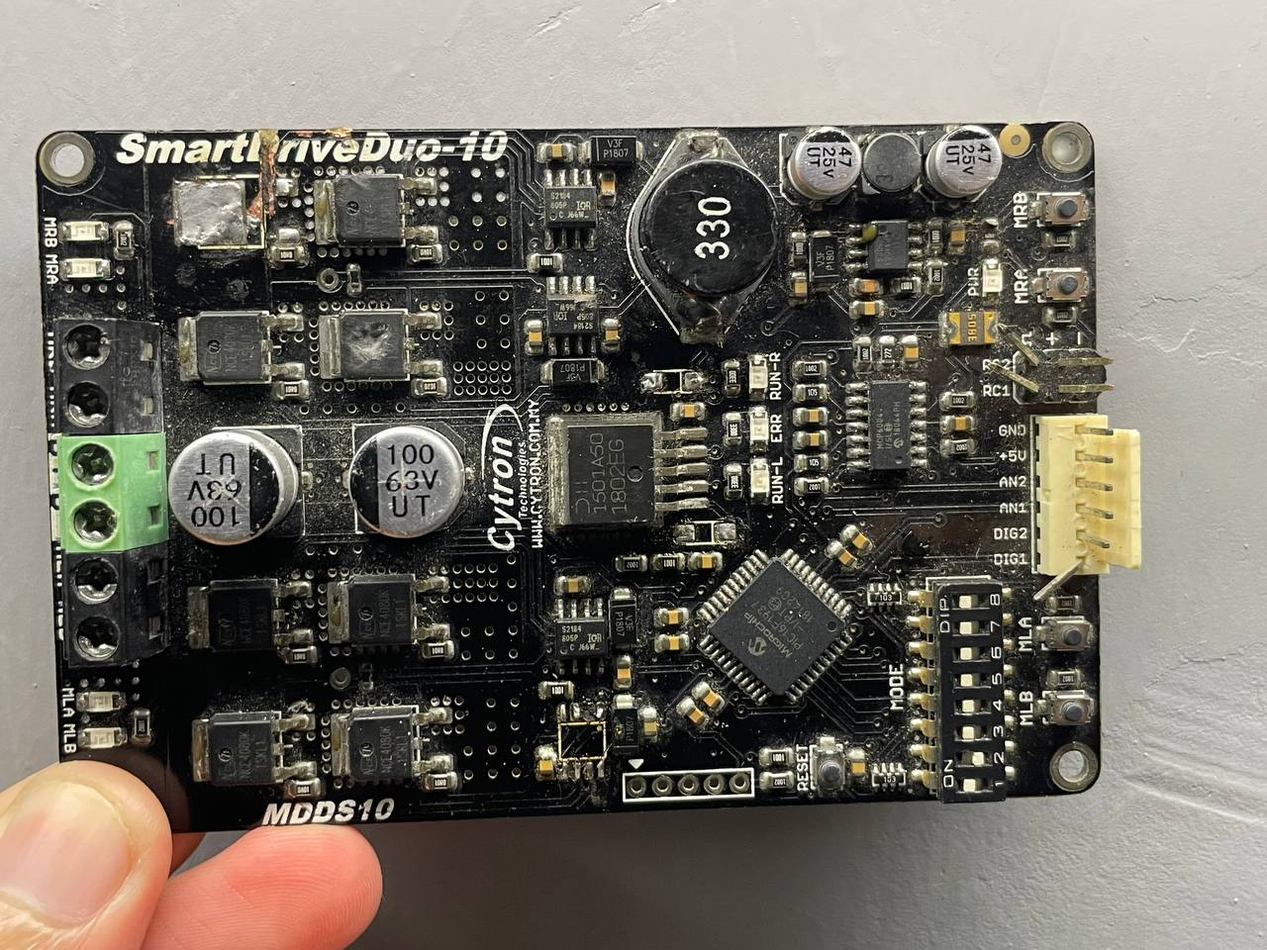bent_pin: (1030, 553, 1089, 607), (996, 322, 1040, 367), (987, 362, 1040, 396)
broken_comp: (327, 306, 410, 385)
missing_comp: (169, 170, 285, 254), (555, 719, 611, 763), (673, 519, 736, 547), (642, 367, 699, 397)
